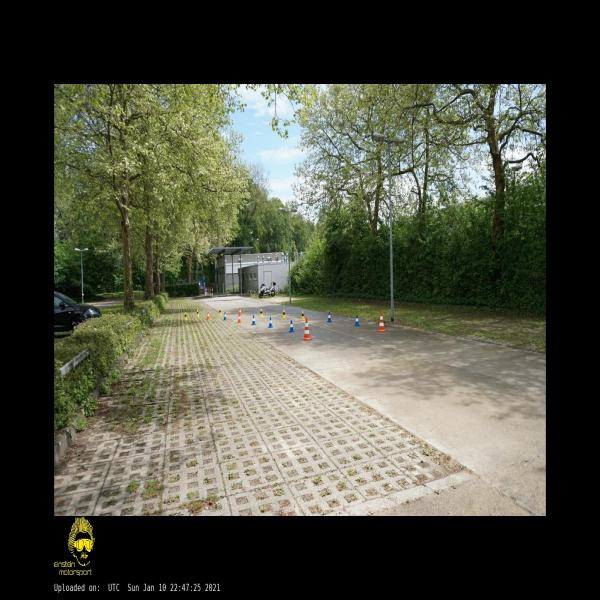blue_cone: (289, 320, 295, 332), (268, 316, 274, 327), (354, 315, 360, 326), (251, 315, 256, 325), (327, 312, 332, 322), (223, 312, 227, 320)
large_orange_cone: (302, 317, 312, 340), (377, 311, 386, 332)
orange_cone: (237, 312, 242, 322), (206, 311, 210, 320), (238, 307, 242, 316)
yellow_cone: (300, 310, 305, 320), (195, 309, 200, 318), (183, 312, 188, 320), (282, 310, 287, 318), (260, 308, 264, 317), (218, 308, 222, 316)
